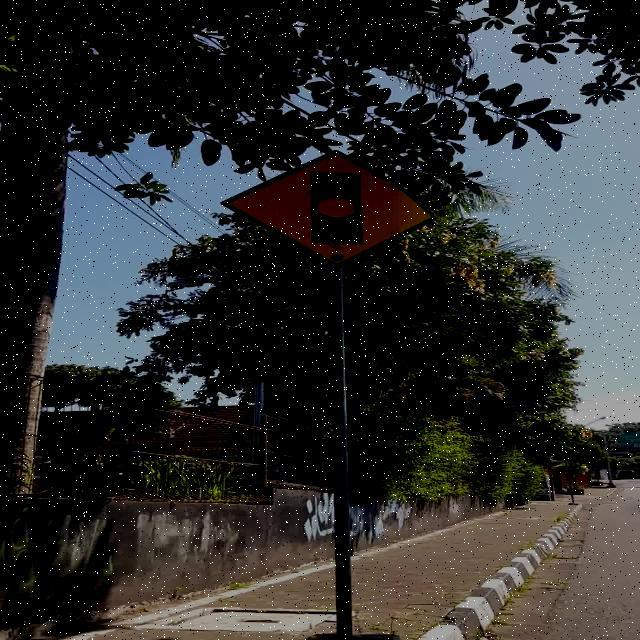Lampu Lalu Lintas: (220, 149, 436, 268)
